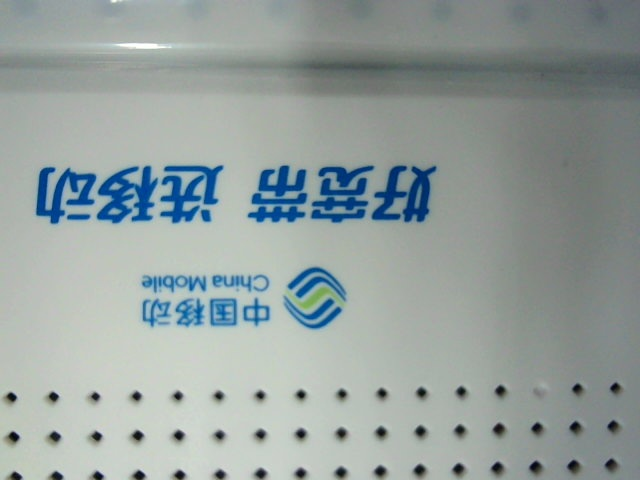AA_ChinaMobile: (25, 144, 462, 334)
